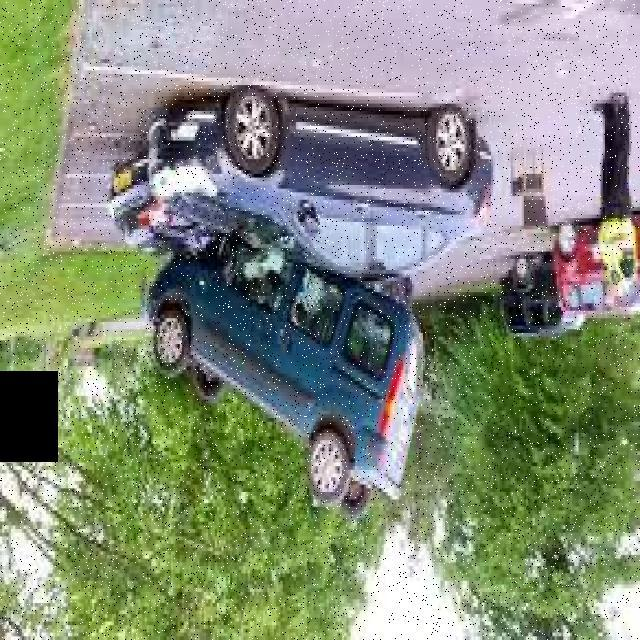severe: (102, 74, 494, 518)
